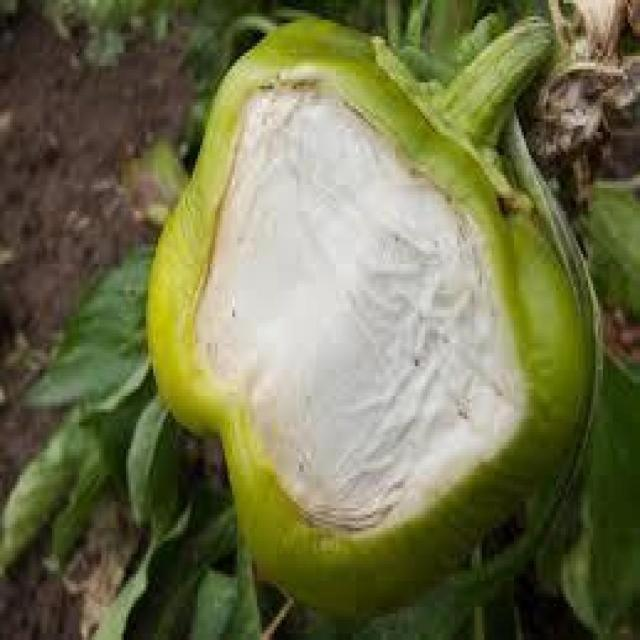Sunscald Fruit: (146, 36, 314, 323)
